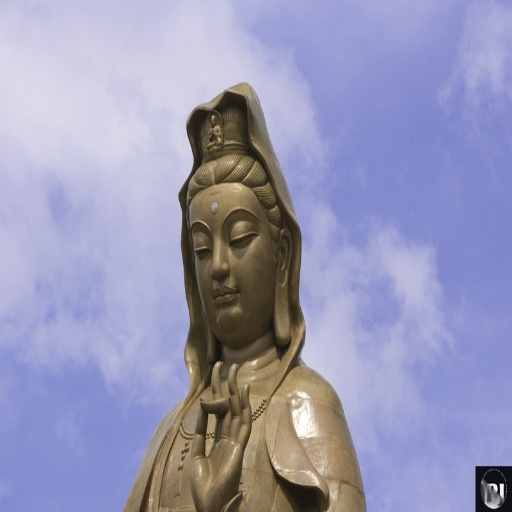hand: (188, 356, 254, 510)
